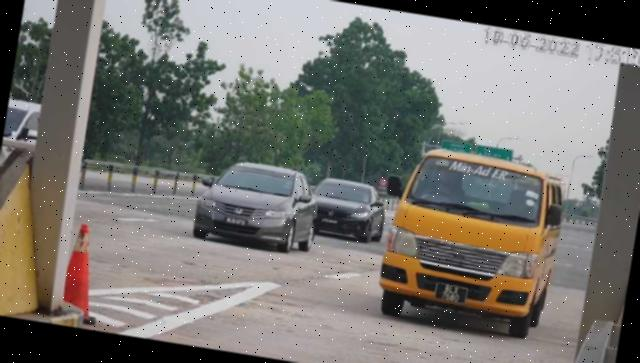License_Plate: (433, 281, 470, 307), (222, 215, 252, 232)
car: (188, 152, 327, 261), (305, 174, 391, 243)
van: (375, 144, 570, 341)
